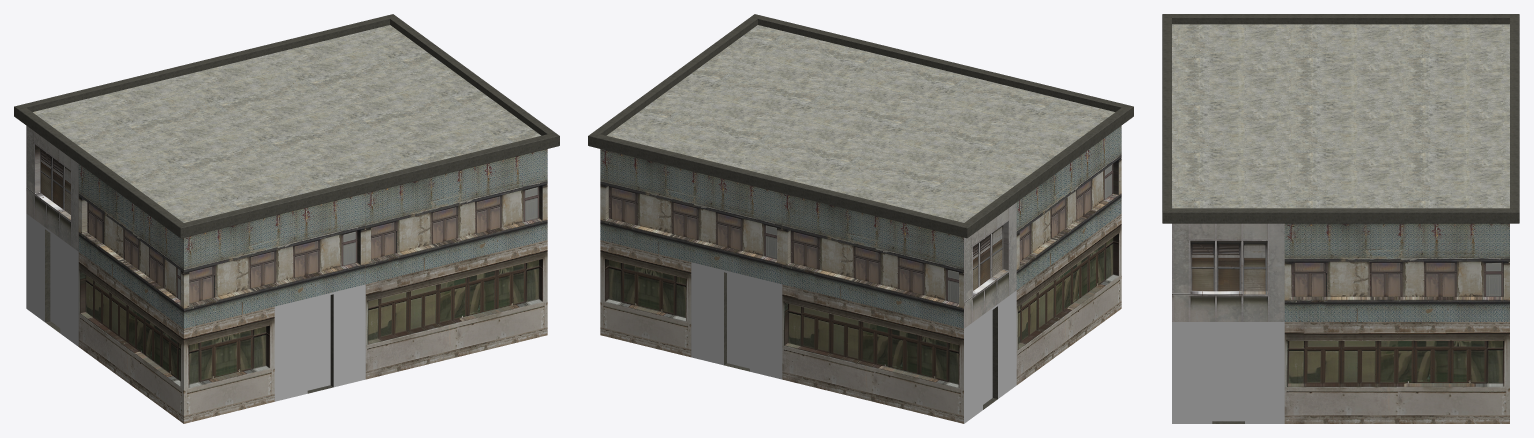
The model's file is CT_door_026.fbx.
3 views of the same model, side by side, from view 1: azimuth 30°, elevation 25°; view 2: azimuth 150°, elevation 25°; view 3: azimuth 270°, elevation 25° (orthographic). The views are drawn at different scales.
Visible parts, largest first — view 1: CT_door_026; view 2: CT_door_026; view 3: CT_door_026.
Part boxes in pixels (bbox=[...]): CT_door_026: bbox=[14, 14, 559, 423]; CT_door_026: bbox=[588, 14, 1133, 423]; CT_door_026: bbox=[1162, 14, 1519, 423].
Bounding box in the file's own units: 1067 × 540 × 811.
